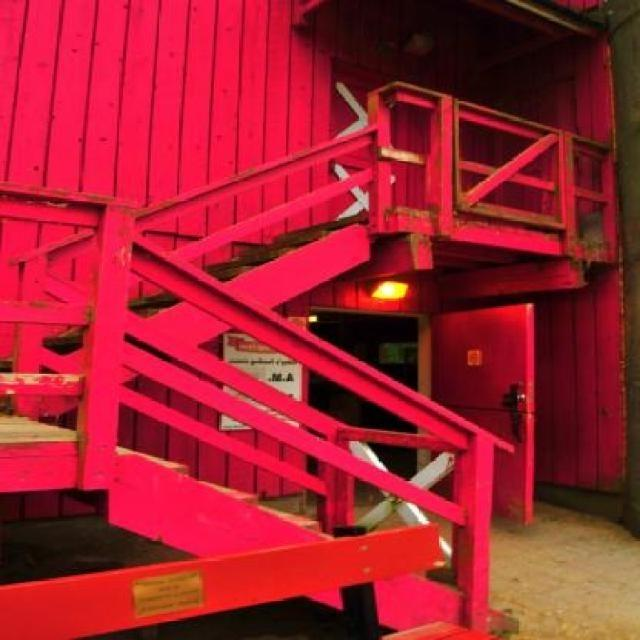stair: (12, 417, 518, 640), (1, 208, 397, 417)
